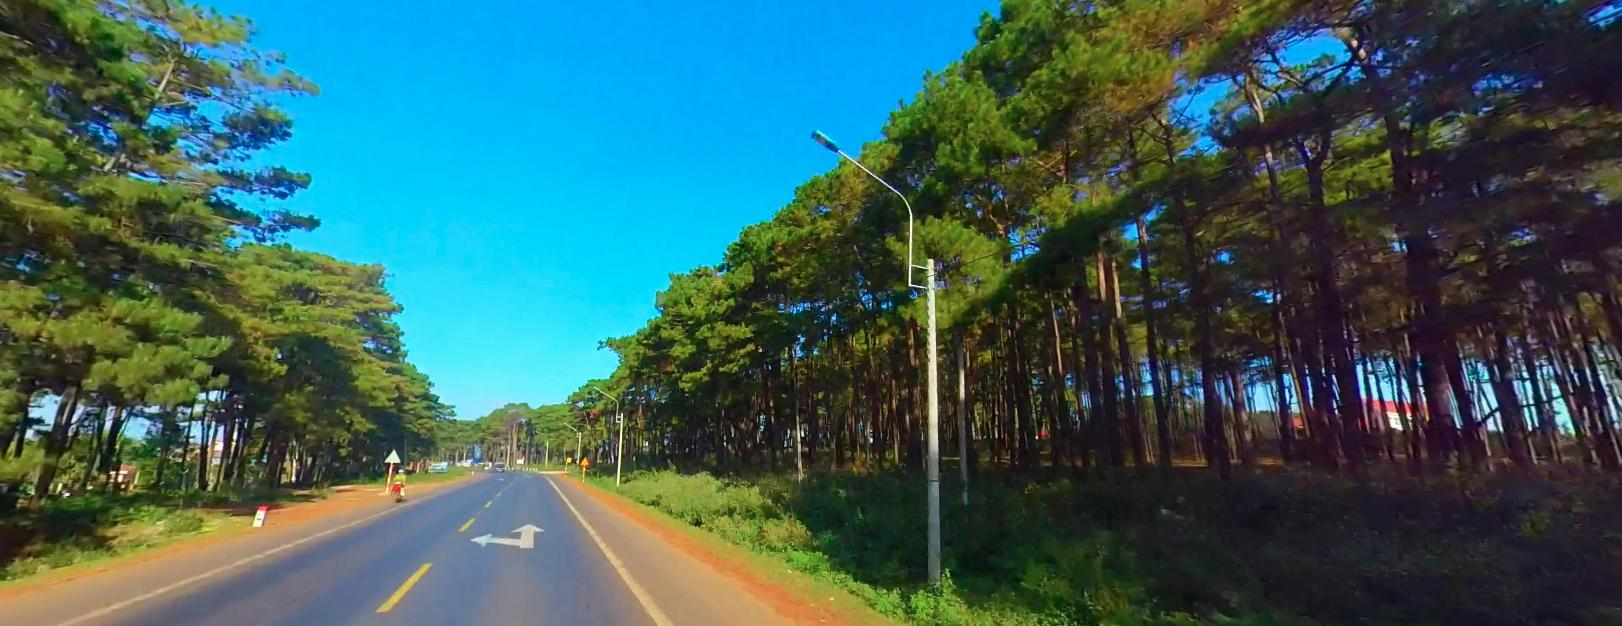Nguy hiem: (580, 455, 589, 464)
